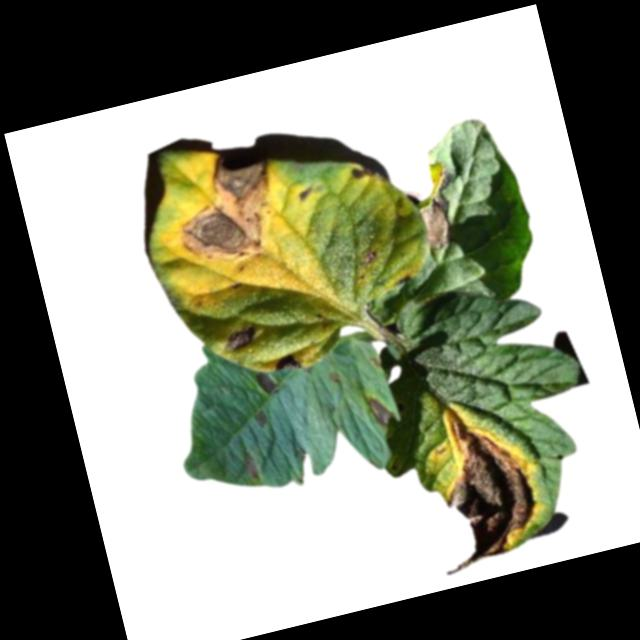Early_blight: (409, 391, 559, 581), (150, 140, 292, 281), (406, 157, 469, 254), (217, 324, 261, 354), (364, 393, 395, 431), (347, 161, 383, 193), (269, 349, 304, 376), (239, 447, 264, 484), (252, 370, 278, 401), (357, 246, 381, 267), (294, 186, 316, 207), (250, 408, 270, 431)
